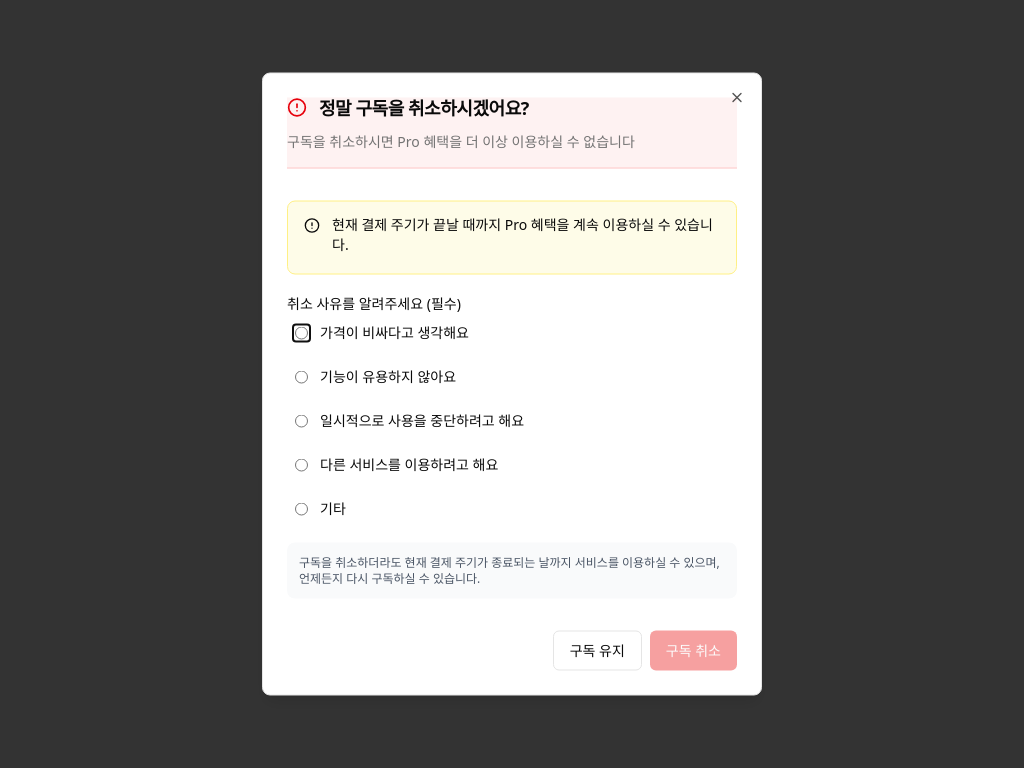
Test: CancelSubscriptionModal › should enable cancel button when reason is selected
What coordinates should you click on to do the following:
click the radio button labelled "가격이 비싸다고 생각해요"
I would click on:
 (302, 332)
Its box is x1=295 y1=326 x2=308 y2=339.
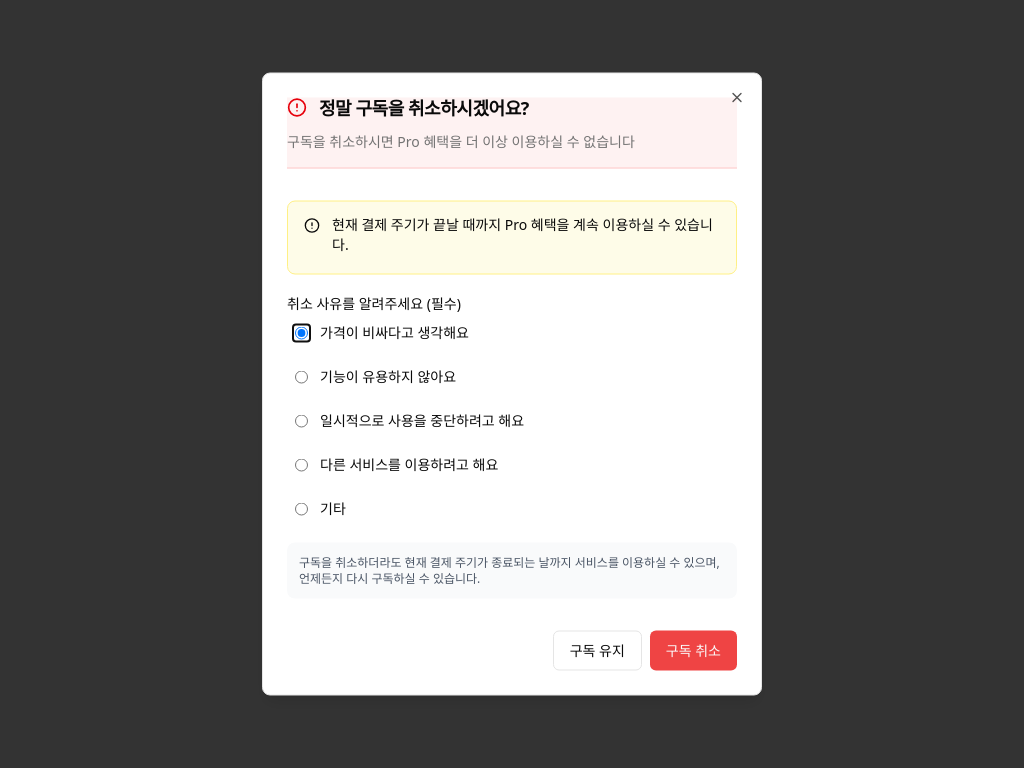
Expected: the button "구독 취소" is enabled, x1=650 y1=630 x2=737 y2=670
